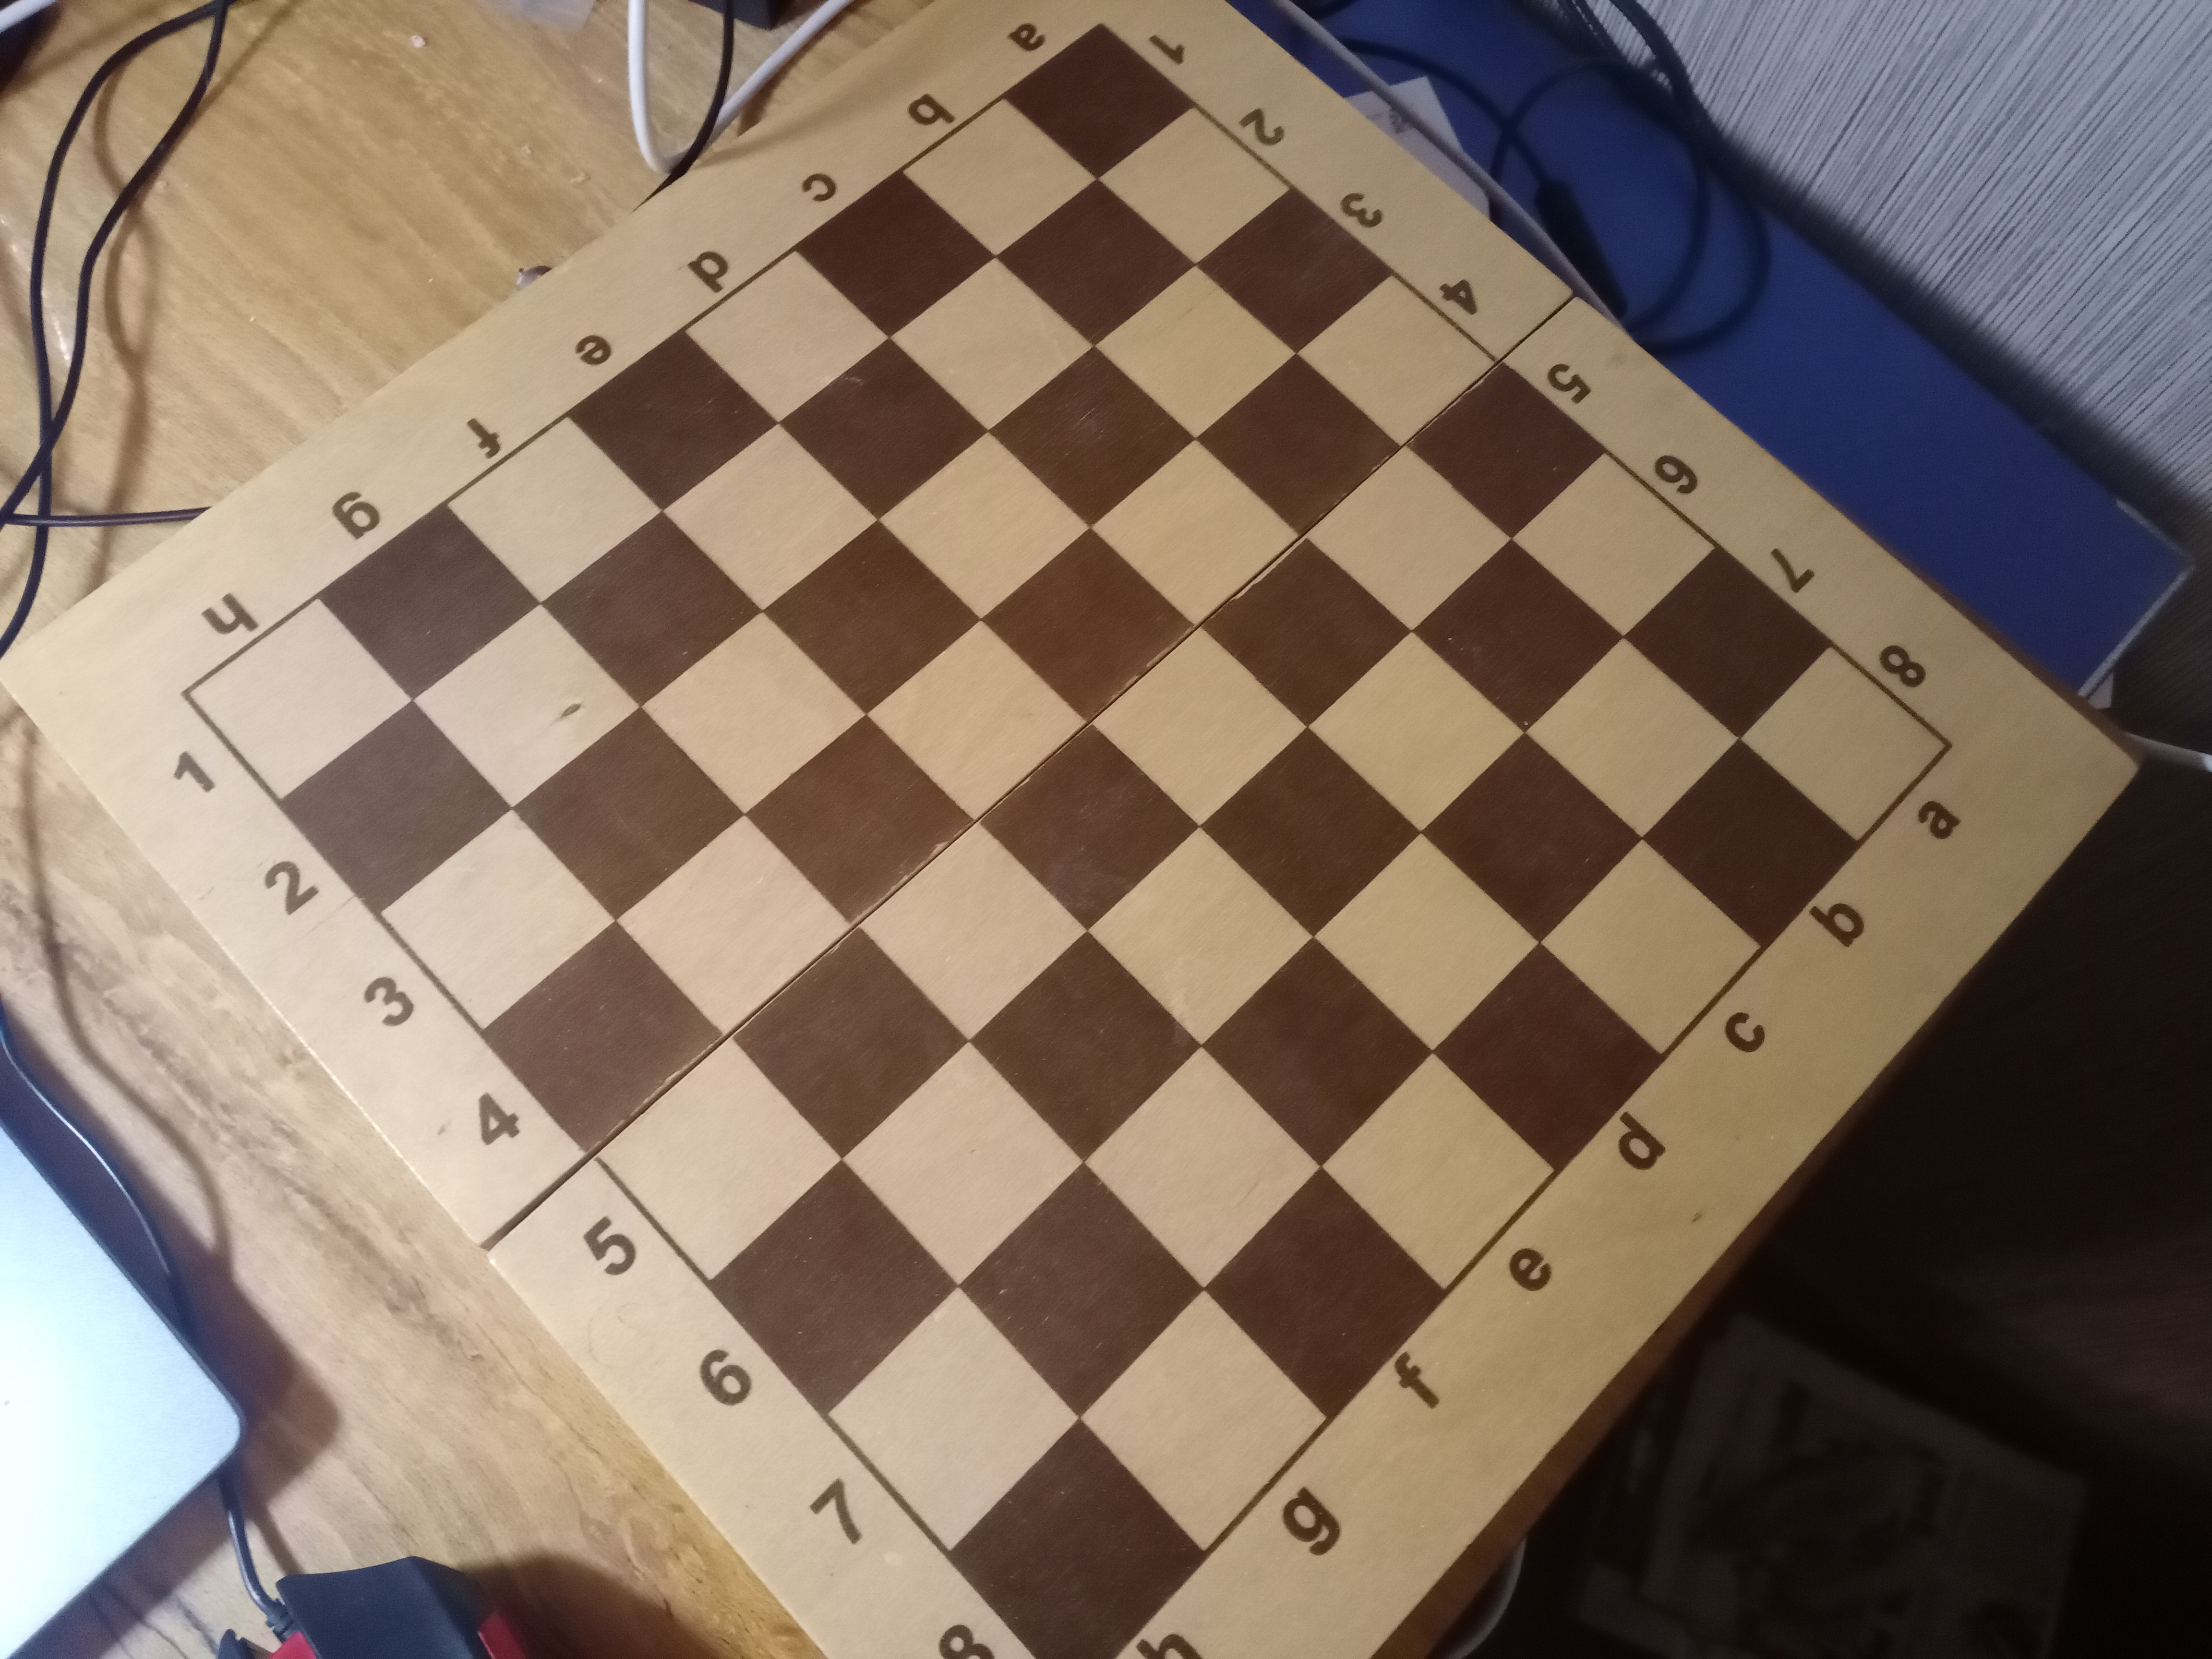Empty_Black_Cell: (707, 1161, 960, 1417), (1204, 1168, 1449, 1424), (960, 1162, 1204, 1420), (948, 1419, 1205, 1659), (475, 924, 726, 1159), (728, 925, 972, 1157), (968, 931, 1202, 1164), (1435, 945, 1665, 1176), (1204, 939, 1433, 1168), (273, 701, 514, 911), (510, 708, 744, 922), (744, 714, 981, 925), (1423, 732, 1644, 948), (975, 720, 1198, 931), (1644, 735, 1860, 948), (1200, 730, 1421, 938), (312, 507, 542, 699), (977, 525, 1197, 723), (540, 512, 765, 704), (761, 521, 982, 714), (1407, 538, 1623, 734), (1193, 538, 1409, 728), (1625, 547, 1834, 739), (989, 342, 1198, 532), (777, 338, 991, 523), (566, 331, 779, 516), (1197, 352, 1400, 540), (1400, 362, 1608, 538), (792, 173, 1000, 338), (993, 178, 1197, 345), (1197, 186, 1395, 355), (1001, 24, 1197, 179)
